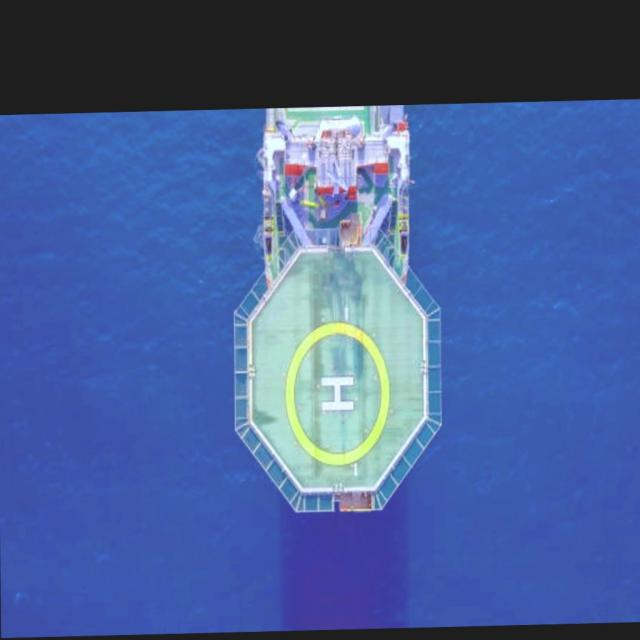helipad: (278, 318, 394, 472)
